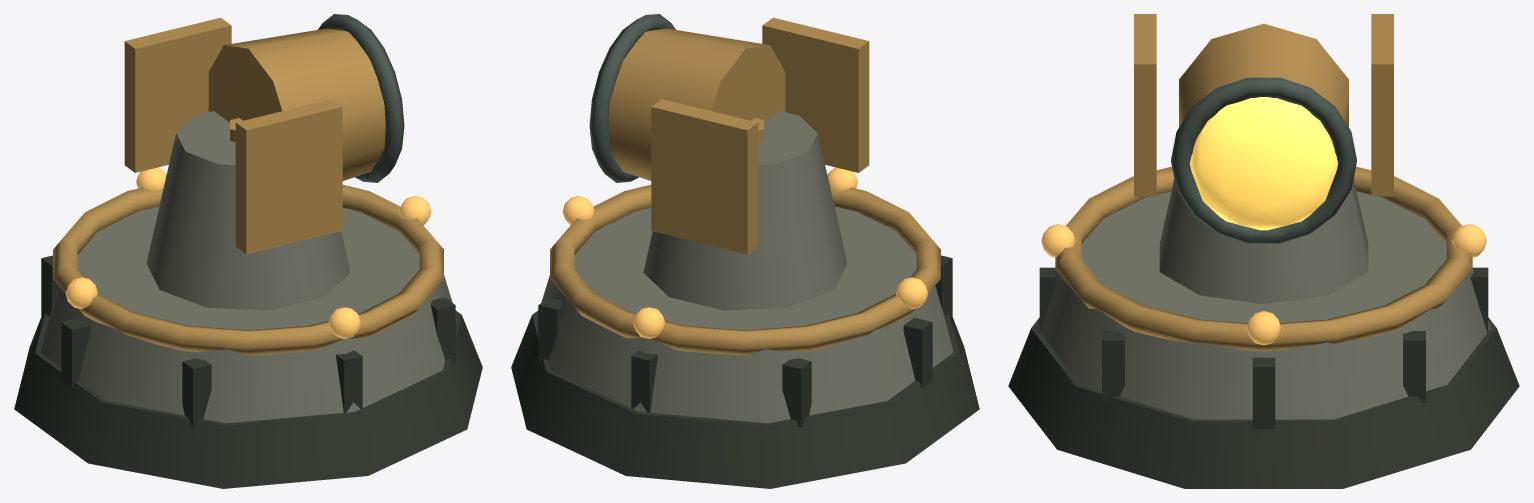
Rendered from tower_laser_laserPrism.glb.
3 renders of one model, left to right at view 1: azimuth 30°, elevation 25°; view 2: azimuth 150°, elevation 25°; view 3: azimuth 270°, elevation 25°, orthographic. The views are drawn at different scales.
Parts seen in each view (by area): view 1: stone_1, foot_0, column_15, rim_2, lens_housing_17, cooling_fin_20, cooling_fin_21, focus_ring_18, mortar_6, mortar_7, mortar_5, mortar_4 (+5 smaller); view 2: stone_1, foot_0, column_15, rim_2, lens_housing_17, cooling_fin_21, cooling_fin_20, focus_ring_18, mortar_8, mortar_7, mortar_9, mortar_10 (+5 smaller); view 3: stone_1, foot_0, rim_2, lens_glass_19, column_15, focus_ring_18, lens_housing_17, cooling_fin_20, cooling_fin_21, mortar_3, mortar_4, mortar_10 (+5 smaller).
Part boxes in pixels (x1,y1,x2,y2): stone_1: (40, 206, 456, 423); foot_0: (14, 310, 482, 488); column_15: (146, 111, 350, 310); rim_2: (53, 184, 443, 355); lens_housing_17: (208, 28, 385, 180); cooling_fin_20: (235, 99, 342, 254); cooling_fin_21: (124, 17, 231, 172); focus_ring_18: (318, 14, 404, 182); mortar_6: (182, 358, 211, 427); mortar_7: (61, 317, 90, 387); mortar_5: (336, 350, 362, 412); mortar_4: (431, 297, 455, 363); stone_1: (537, 206, 953, 423); foot_0: (511, 310, 979, 488); column_15: (643, 111, 847, 310); rim_2: (550, 184, 940, 355); lens_housing_17: (608, 28, 785, 180); cooling_fin_21: (651, 99, 758, 254); cooling_fin_20: (762, 17, 869, 172); focus_ring_18: (589, 14, 675, 182); mortar_8: (782, 358, 811, 427); mortar_7: (903, 317, 932, 387); mortar_9: (631, 350, 657, 412); mortar_10: (538, 297, 562, 363); stone_1: (1037, 191, 1490, 419); foot_0: (1008, 317, 1519, 488); rim_2: (1055, 166, 1472, 351); lens_glass_19: (1189, 97, 1338, 230); column_15: (1159, 179, 1368, 303); focus_ring_18: (1171, 77, 1356, 243); lens_housing_17: (1179, 23, 1348, 181); cooling_fin_20: (1134, 14, 1156, 196); cooling_fin_21: (1371, 14, 1393, 196); mortar_3: (1252, 357, 1275, 429); mortar_4: (1102, 331, 1124, 402); mortar_10: (1403, 331, 1425, 402).
Bounding box in the file's own units: 0.5326 × 0.4405 × 0.56.
